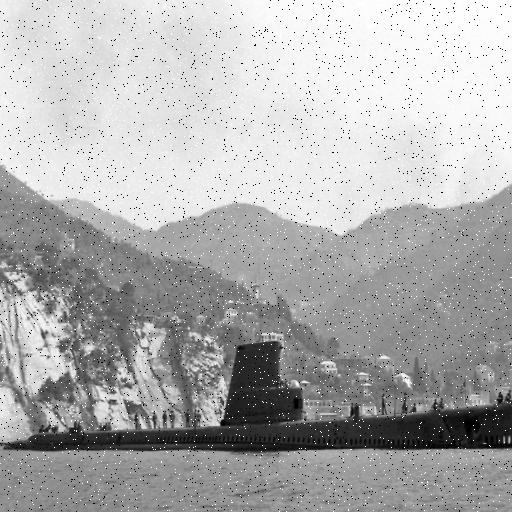submarine: (7, 342, 512, 446)
